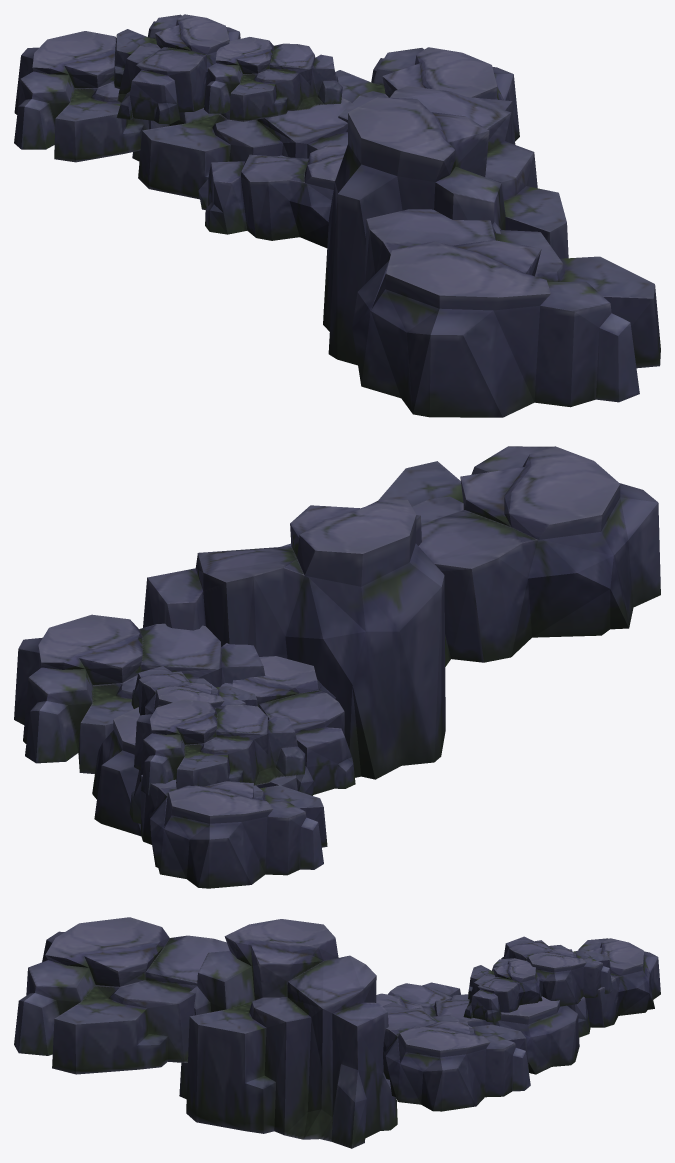
File: Area08_16.fbx
3 renders of one model, top to bottom at view 1: azimuth 30°, elevation 25°; view 2: azimuth 150°, elevation 25°; view 3: azimuth 270°, elevation 25°, orthographic. The views are drawn at different scales.
Parts seen in each view (by area): view 1: Area08_16; view 2: Area08_16; view 3: Area08_16.
Boxes of the visible parts, bbox=[...] form: Area08_16: bbox=[14, 14, 660, 417]; Area08_16: bbox=[14, 446, 660, 888]; Area08_16: bbox=[14, 917, 660, 1148].
Size of the model in its own units: 1795 by 924 by 3593.
